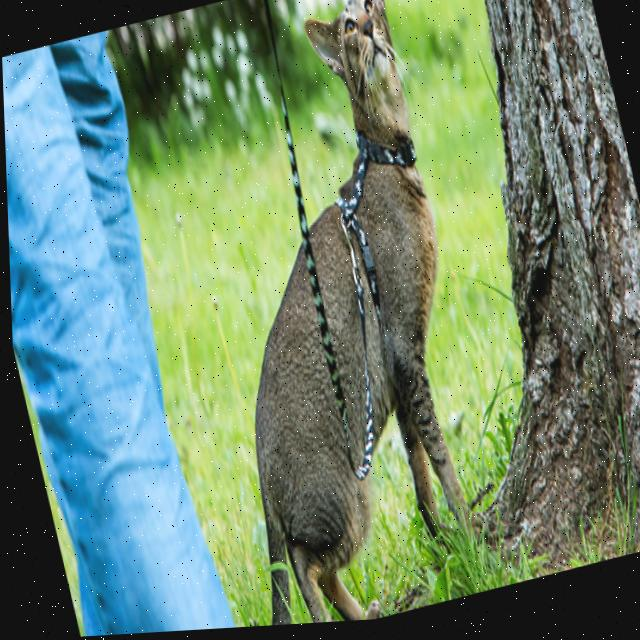Oriental: (99, 0, 521, 635)
